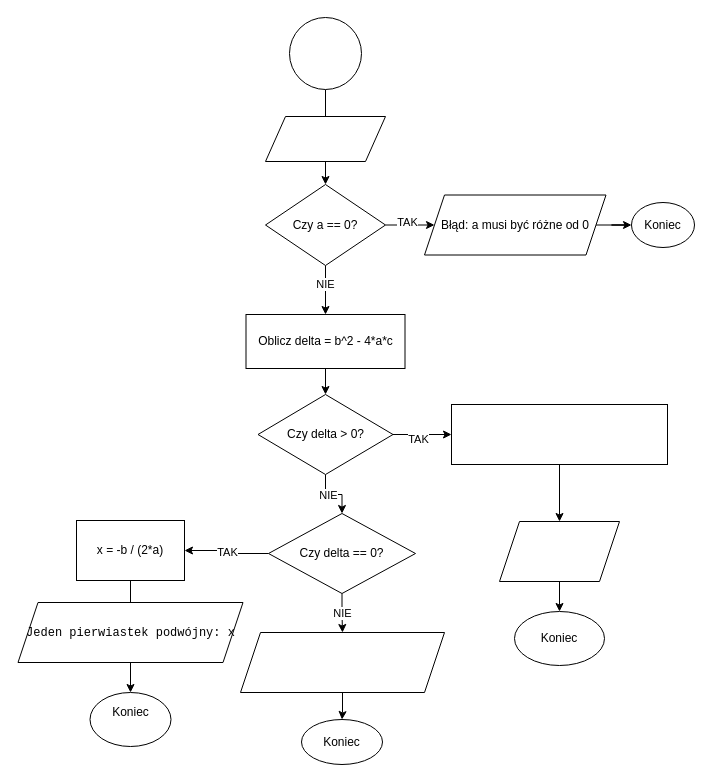
The diagram is 712 pixels wide and 782 high, and some of its shapes have lost their labels. The centre of each missing label's shape, as x and y in pixels:
"Brak pierwiastków rzeczywistych" belongs at [342,662].
"START" belongs at [325,53].
"Wczytaj a, b, c" belongs at [325,139].
"Wyświetl x1, x2" belongs at [559,551].
"x1 = (-b + sqrt(delta)) / (2*a) x2 = (-b - sqrt(delta)) / (2*a)" belongs at [559,434].
